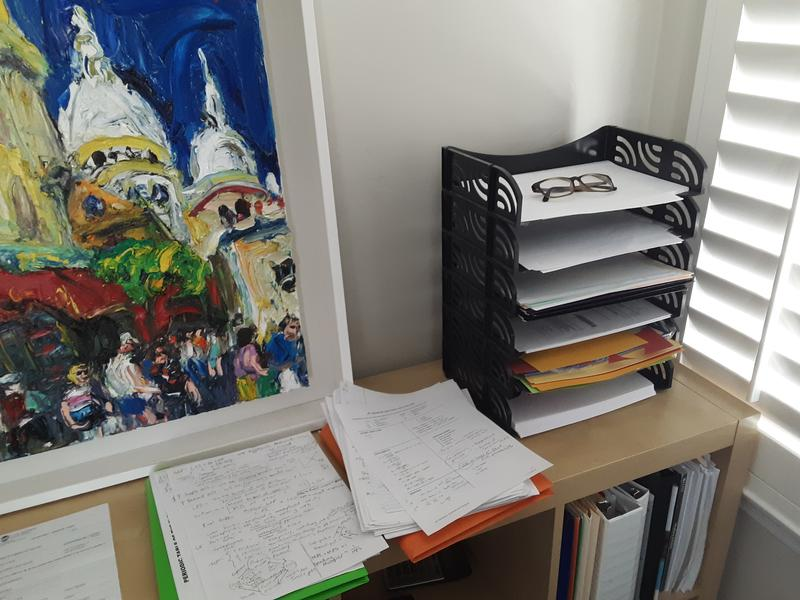glasses: (529, 172, 619, 203)
